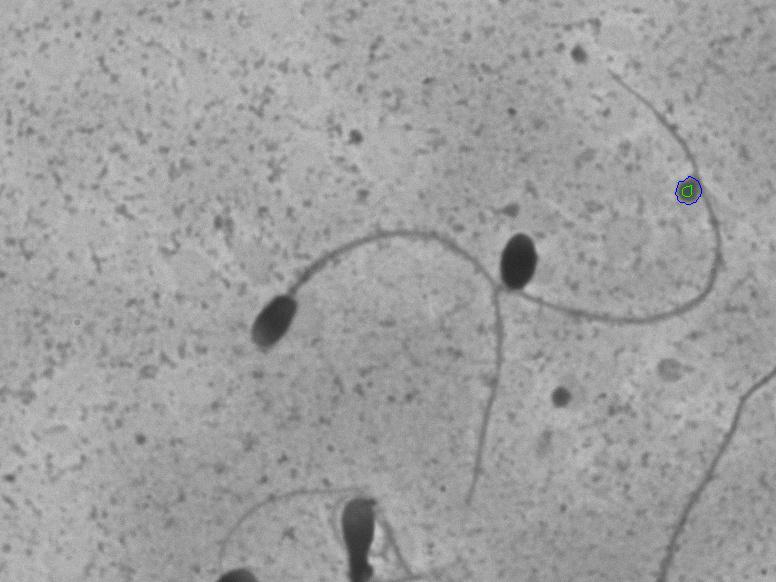Abnormal: (492, 57, 743, 354)
Normal: (227, 205, 525, 565)
